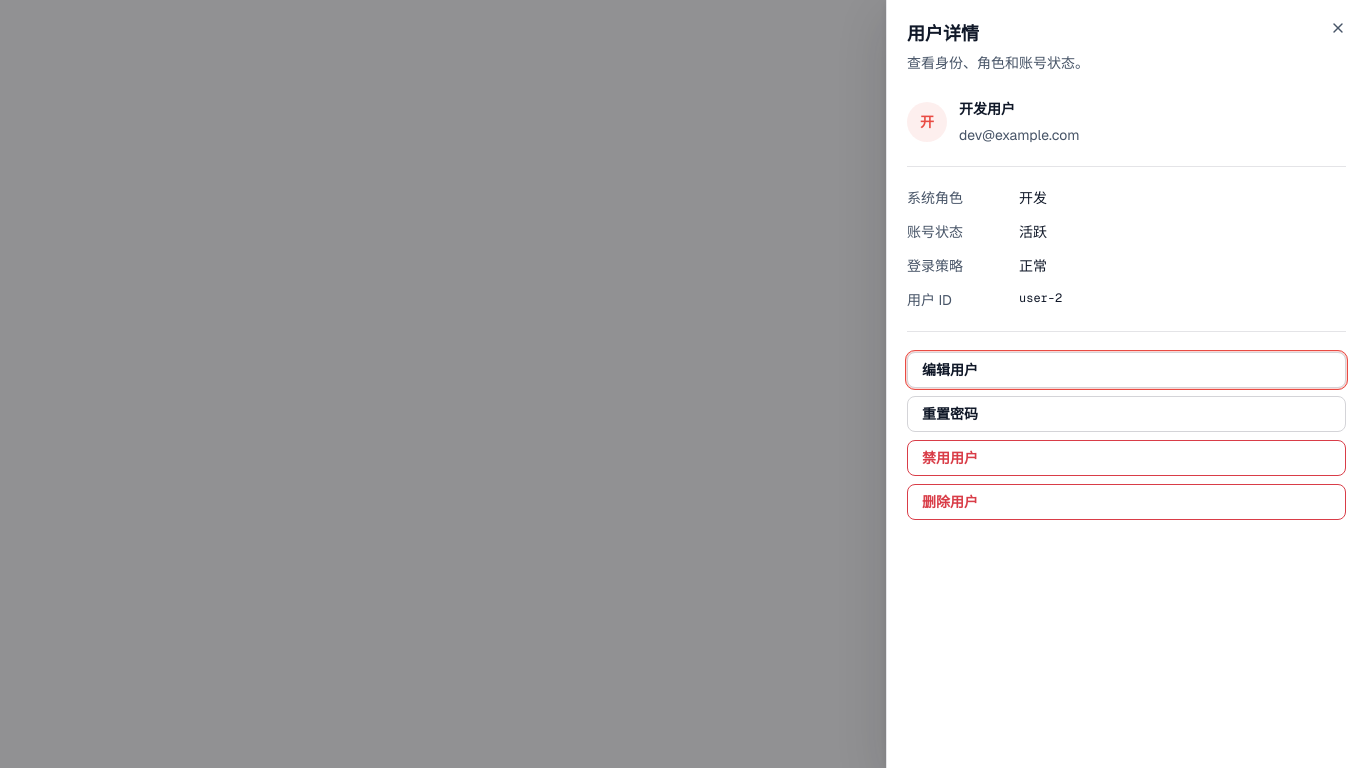
UserDrawer actions › explains session impact before reset and disable
Click the button "重置密码".
click(950, 414)  # box [907,396,1346,432]
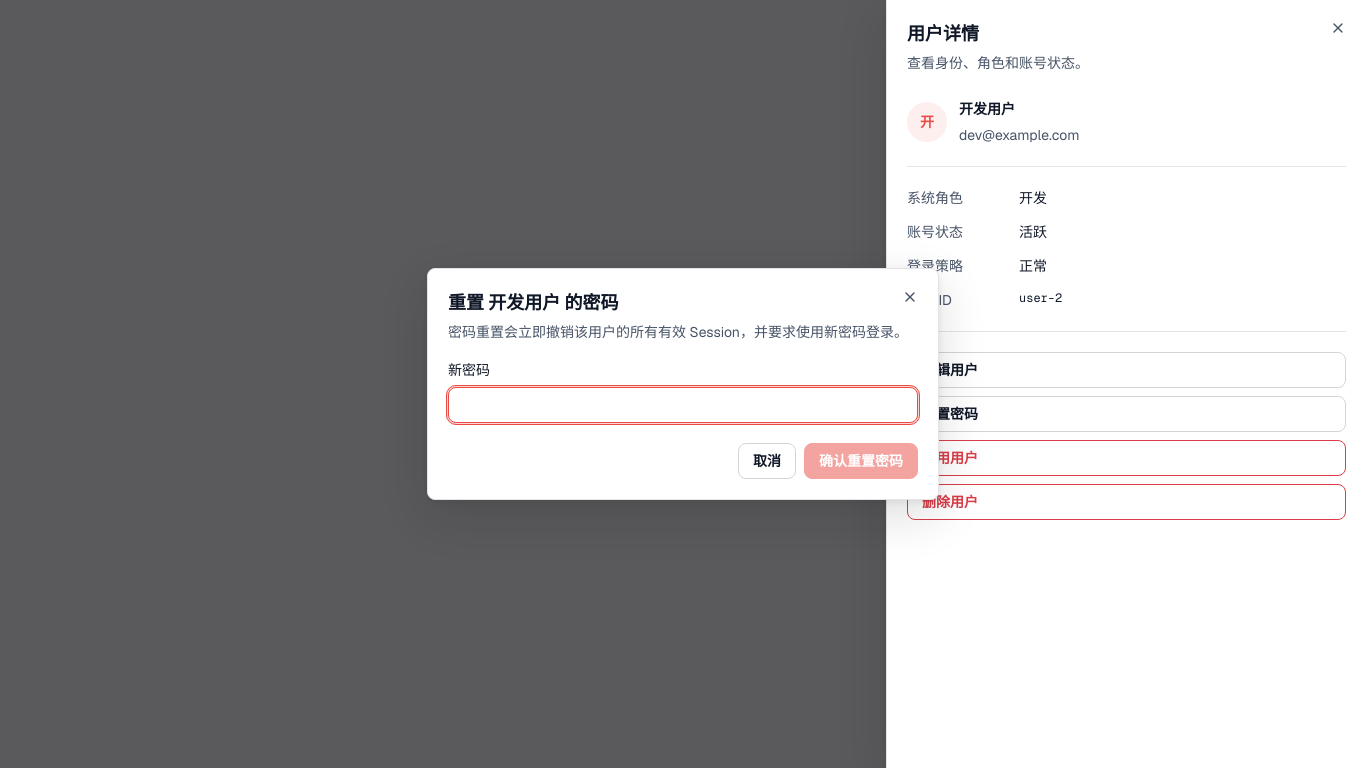
Check: the text "密码重置会立即撤销该用户的所有有效 Session，并要求使用新密码登录。" is shown, box [448,321,918,343]
Click the button "取消".
click(767, 461)  # box [738,443,796,479]
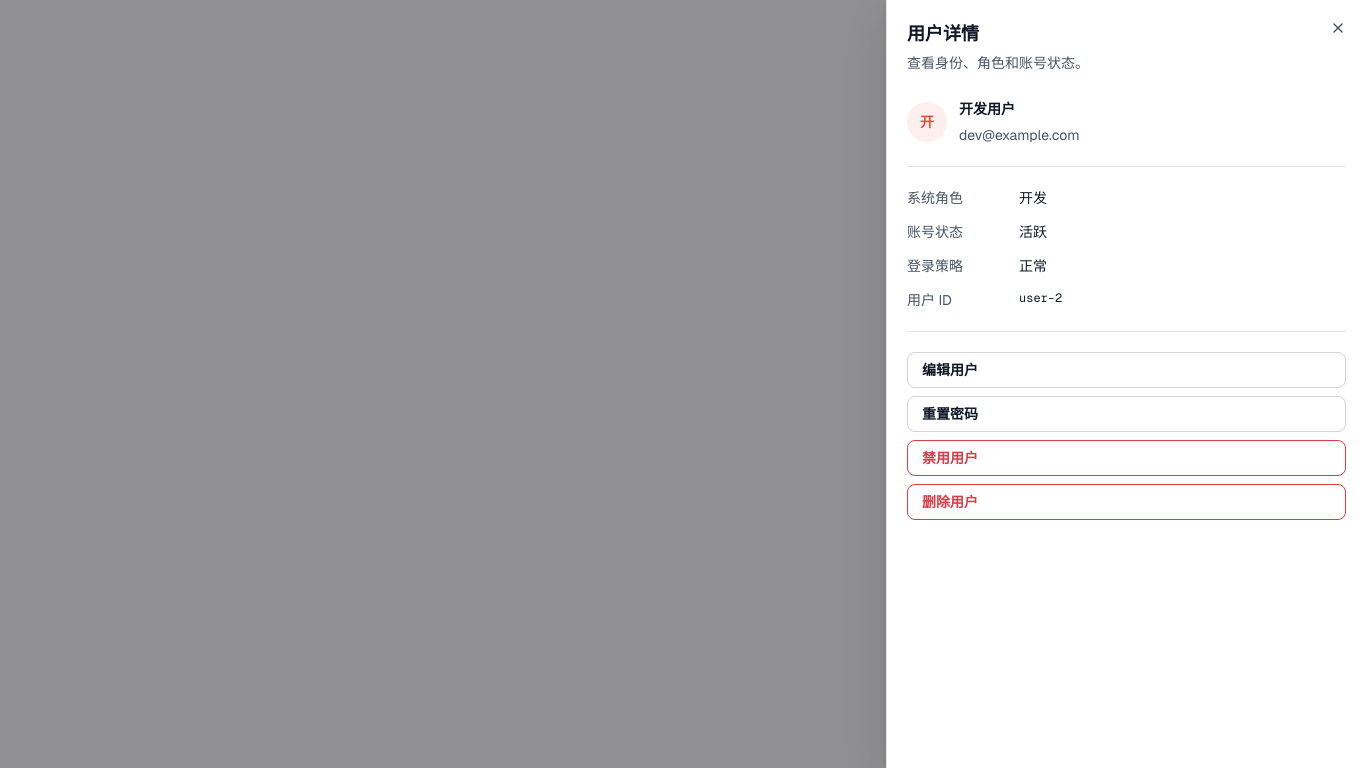
Click the button "禁用用户".
click(950, 458)  # box [907,440,1346,476]
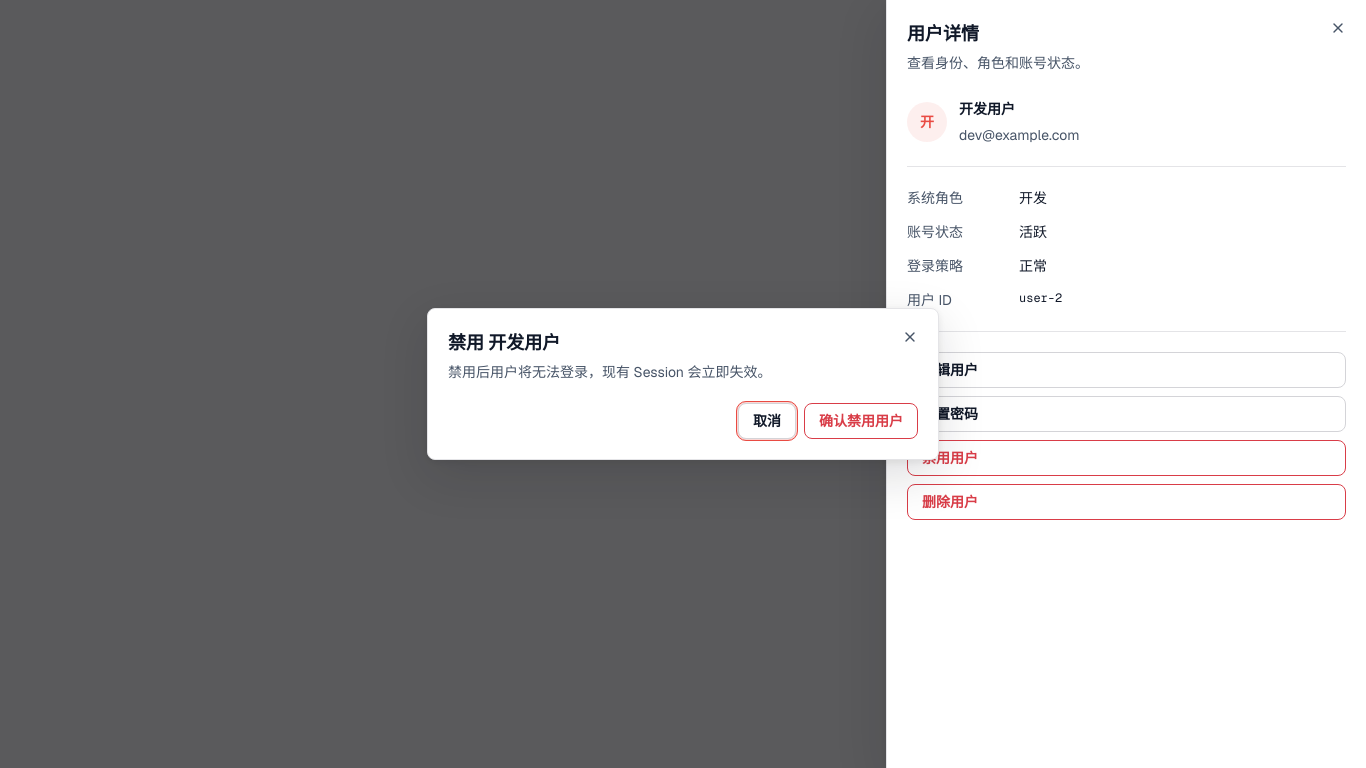
Check: the text "禁用后用户将无法登录，现有 Session 会立即失效。" is shown, box [448,363,772,381]
